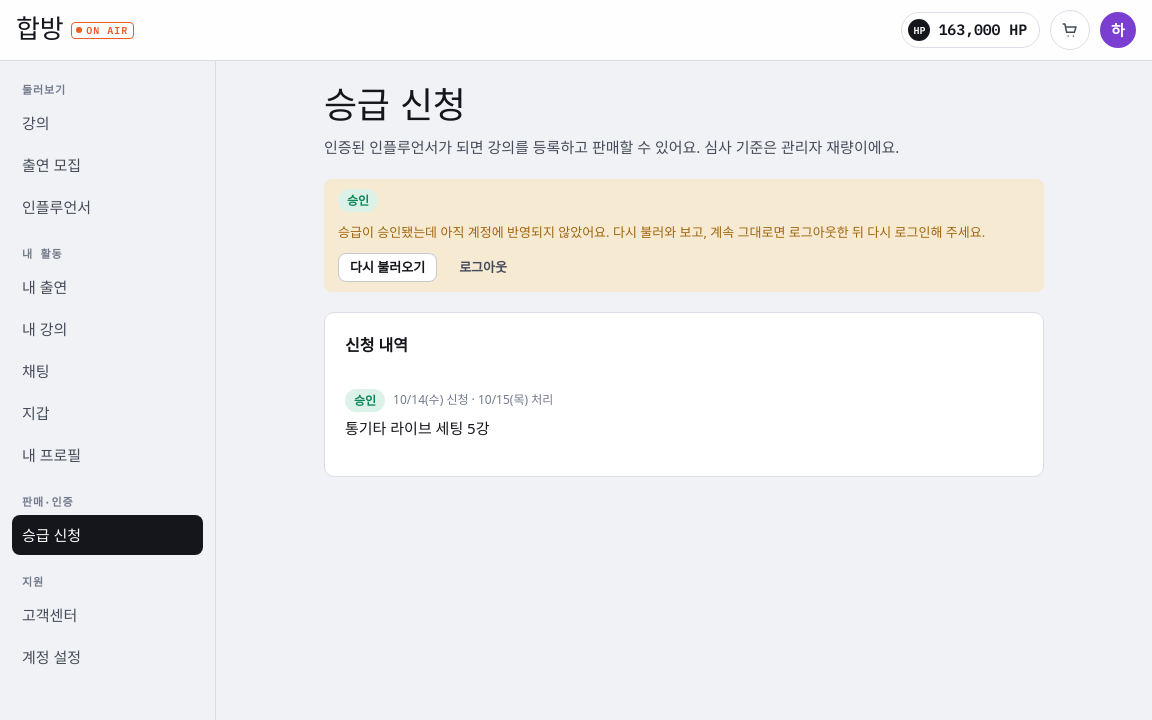
승급 신청 › 승인됐는데 내 정보가 그대로면 다시 불러오기와 재로그인을 안내한다
This screenshot has width=1152, height=720.
Expected: the button "로그아웃" is shown, x1=447 y1=253 x2=519 y2=282
Click the button "다시 불러오기" at [388, 267], box x1=338 y1=253 x2=437 y2=282
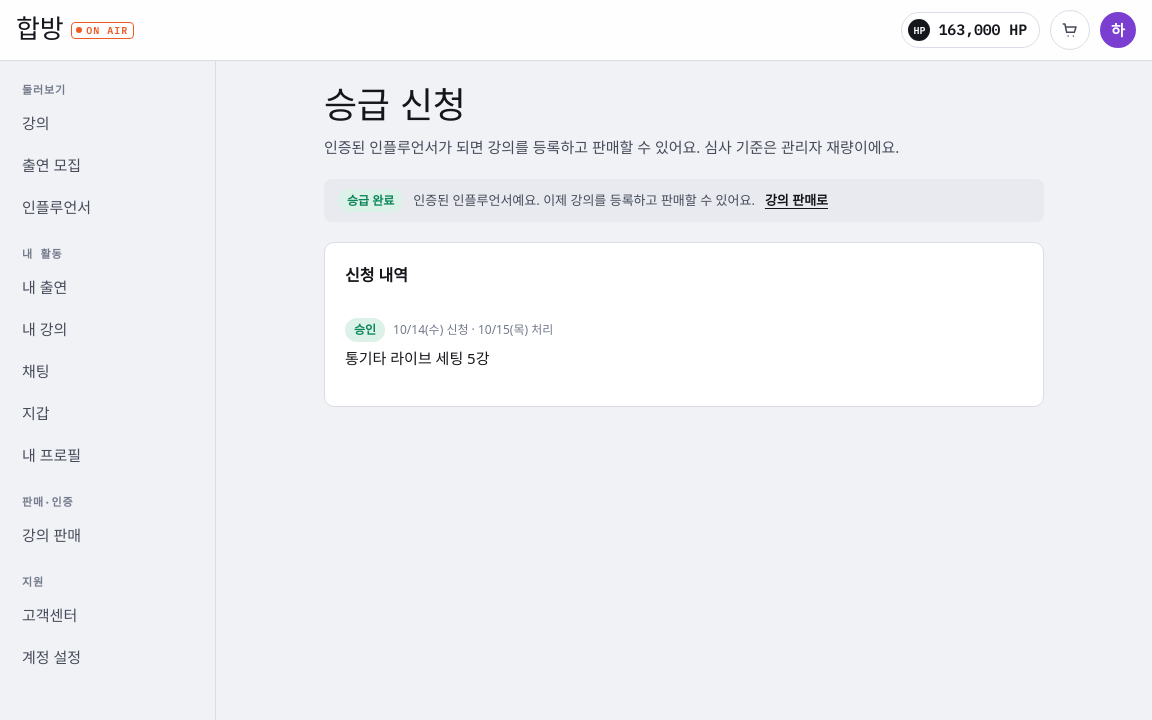
Result: the text "승급 완료" is shown at x1=338 y1=189 x2=403 y2=212
